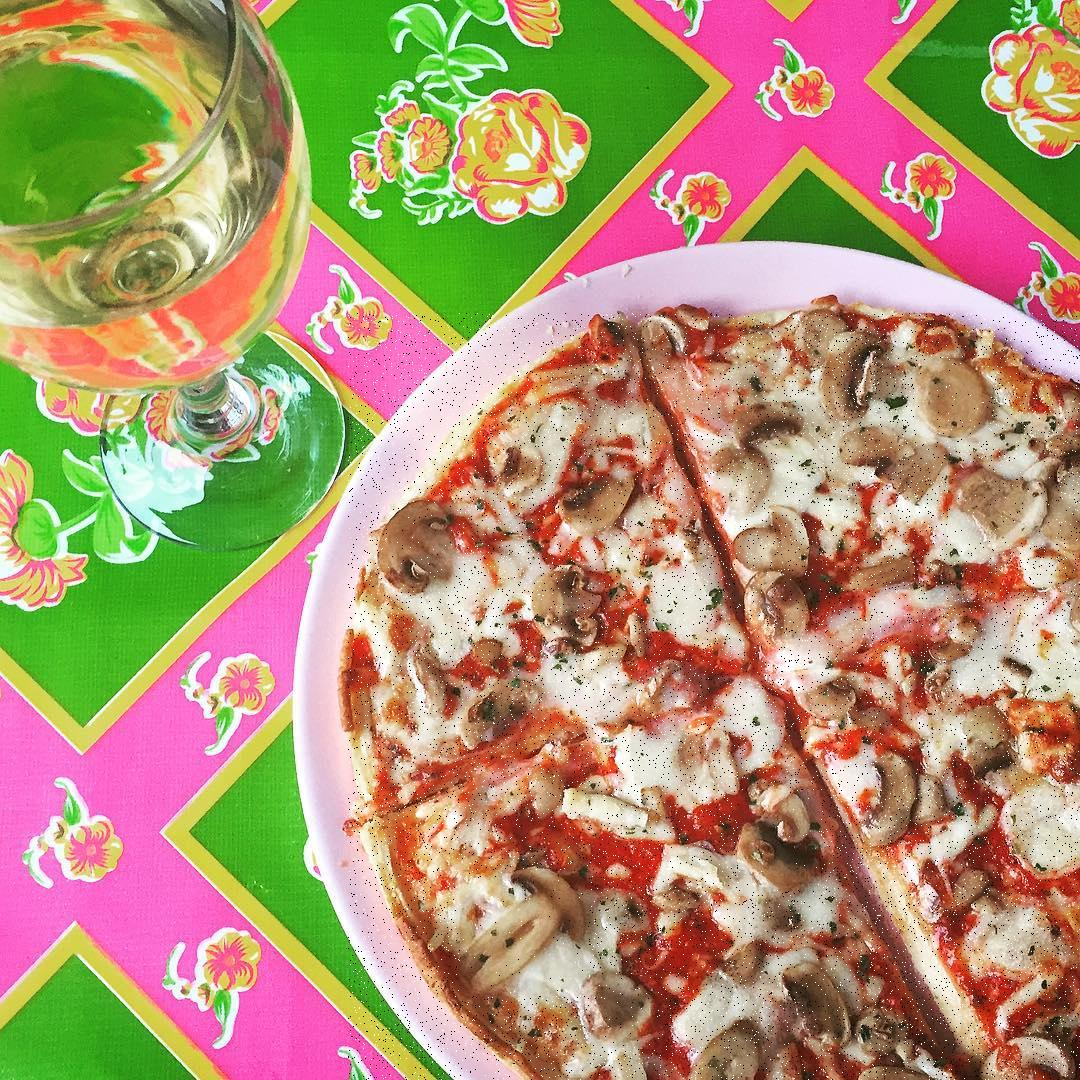Mushroom: (461, 870, 590, 996), (731, 513, 816, 643), (949, 462, 1057, 543), (740, 791, 822, 890), (782, 960, 858, 1052), (380, 499, 454, 592), (532, 566, 605, 650), (916, 358, 989, 440), (864, 751, 917, 856), (556, 473, 642, 535), (827, 329, 880, 421), (975, 1034, 1080, 1080), (590, 976, 658, 1046), (686, 1021, 760, 1080), (734, 403, 814, 453), (968, 702, 1014, 780), (790, 671, 857, 724), (857, 1064, 935, 1080)
Pizza: (348, 313, 1080, 1080)
